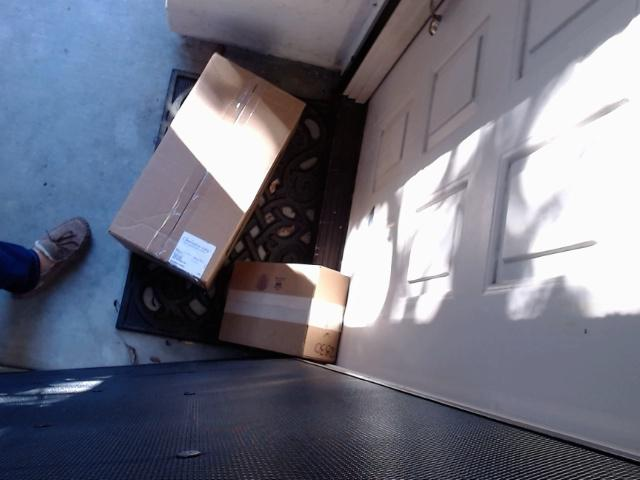box: (109, 52, 307, 292), (218, 261, 351, 364)
